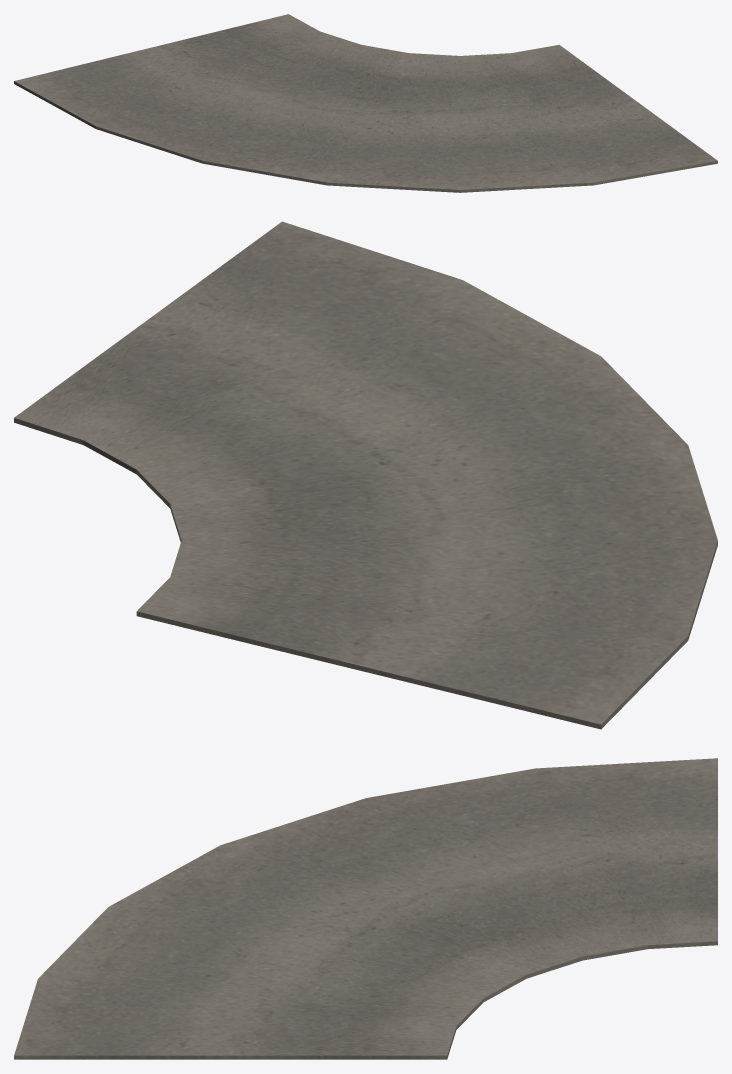
File: Urban_Road3LongCornerNoSides_Model.fbx
3 views of the same model, one above another, from view 1: azimuth 30°, elevation 25°; view 2: azimuth 150°, elevation 25°; view 3: azimuth 270°, elevation 25° (orthographic). The views are drawn at different scales.
Visible parts, largest first — view 1: Urban_Road3LongCornerNoSides_Mesh; view 2: Urban_Road3LongCornerNoSides_Mesh; view 3: Urban_Road3LongCornerNoSides_Mesh.
Part boxes in pixels (box(x1,y1,x2,y2)): Urban_Road3LongCornerNoSides_Mesh: box(14, 14, 717, 192); Urban_Road3LongCornerNoSides_Mesh: box(14, 221, 717, 729); Urban_Road3LongCornerNoSides_Mesh: box(14, 758, 717, 1059).
Bounding box in the file's own units: 26 × 0.16 × 26.
